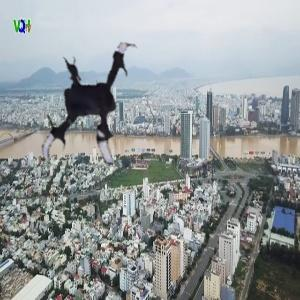drone: (23, 38, 173, 188)
